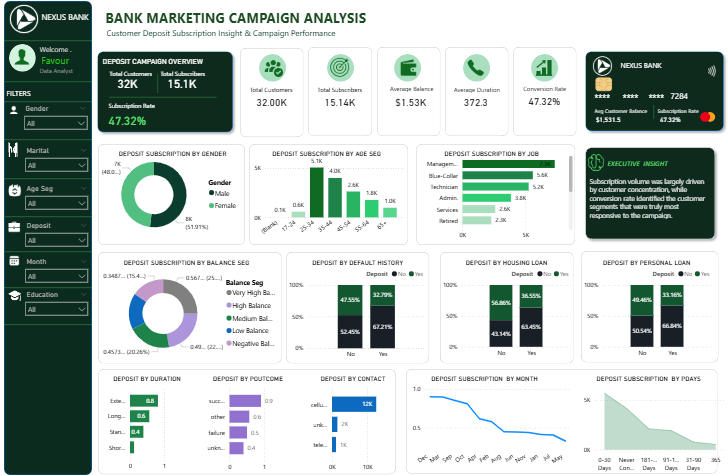

What the dashboard file says about the page in this screenshot:
{"tool":"powerbi","page":{"name":"Page 1","canvas":[1470,950],"ordinal":0},"visuals":[{"type":"textbox","box":[88.9,83.3,98.1,31.5],"z":0,"group":"g6"},{"type":"shape","box":[31.5,88.9,53.7,55.6],"z":0,"group":"g5"},{"type":"shape","box":[767.9,93.6,126.9,178.2],"z":0},{"type":"shape","box":[493.9,95.2,126.9,178.2],"z":0,"group":"g1"},{"type":"image","box":[22.2,90.8,70.4,48.1],"z":1000,"group":"g5"},{"type":"shape","box":[903.8,93.6,126.9,178.2],"z":1000},{"type":"shape","box":[629.8,93.9,128.2,178.2],"z":1000,"group":"g1"},{"type":"textbox","box":[92.6,101.8,98.1,38.9],"z":1000,"group":"g6"},{"type":"shape","box":[1175,94.2,294.2,176.9],"z":2000},{"type":"textbox","box":[88.9,125.9,98.1,31.5],"z":2000,"group":"g6"},{"type":"textbox","box":[502.9,163.1,109,34.6],"z":2000,"group":"g1"},{"type":"shape","box":[1039.7,94.9,126.9,178.2],"z":3000},{"type":"card","fields":{"Values":["Bank_Marketing_Dataset_2026_Pro.Total Customer"]},"box":[515.7,183.6,83.3,39.7],"z":3000,"group":"g1"},{"type":"shape","box":[22.2,1.9,175.9,948.1],"z":4000},{"type":"textbox","box":[636.2,163.1,115.4,34.6],"z":4000,"group":"g1"},{"type":"shape","box":[200,93.6,288.5,179.5],"z":5000},{"type":"card","fields":{"Values":["Bank_Marketing_Dataset_2026_Pro.Total Subscribers"]},"box":[651.6,183.6,83.3,39.7],"z":5000,"group":"g1"},{"type":"card","fields":{"Values":["Bank_Marketing_Dataset_2026_Pro.Average Balance"]},"box":[794.5,184.4,83.5,39.4],"z":6000},{"type":"card","fields":{"Values":["Bank_Marketing_Dataset_2026_Pro.Average Call Duration"]},"box":[924.8,184.4,83.5,39.4],"z":7000},{"type":"textbox","box":[1046.3,163,114.8,35.2],"z":8000},{"type":"card","fields":{"Values":["Bank_Marketing_Dataset_2026_Pro.Conversion Rate"]},"box":[1063,181.5,81.5,40.7],"z":9000},{"type":"card","fields":{"Values":["Count(Bank_Marketing_Dataset_2026_Pro.Customer_id)"]},"box":[225.6,150,85.9,35.9],"z":10000},{"type":"textbox","box":[214.1,107.7,230.8,39.7],"z":11000},{"type":"textbox","box":[214.1,132.1,109,34.6],"z":12000},{"type":"shape","box":[231.5,138.9,214.8,113],"z":13000},{"type":"textbox","box":[329.5,132.1,115.4,34.6],"z":14000},{"type":"card","fields":{"Values":["Bank_Marketing_Dataset_2026_Pro.Total Subscribers"]},"box":[329.5,150,94.9,35.9],"z":15000},{"type":"card","fields":{"Values":["Bank_Marketing_Dataset_2026_Pro.Conversion Rate"]},"box":[218.5,215.4,101.5,49.2],"z":16000},{"type":"textbox","box":[225.9,196.6,119,34.5],"z":17000},{"type":"shape","box":[210.2,287.8,293.9,202],"z":18000},{"type":"shape","box":[512.2,287.8,318.4,202],"z":19000},{"type":"shape","box":[846.9,287.8,318.4,202],"z":20000},{"type":"shape","box":[1175.7,286.5,277,201.4],"z":21000},{"type":"group","id":"g1","title":"Group 1","box":[493.9,93.9,263.3,179.6],"z":22000},{"type":"clusteredColumnChart","fields":{"Category":["Bank_Marketing_Dataset_2026_Pro.Age Seg"],"Y":["Bank_Marketing_Dataset_2026_Pro.Total Subscribers"]},"box":[515.7,297.6,312,192.8],"z":23000},{"type":"clusteredBarChart","fields":{"Category":["Bank_Marketing_Dataset_2026_Pro.Job"],"Y":["Bank_Marketing_Dataset_2026_Pro.Total Customer"]},"box":[846.3,298.1,318.5,190.7],"z":24000},{"type":"donutChart","fields":{"Category":["Bank_Marketing_Dataset_2026_Pro.Gender"],"Y":["Bank_Marketing_Dataset_2026_Pro.Total Subscribers"]},"box":[209,287.2,293.6,202.6],"z":25000},{"type":"shape","box":[209.6,503.8,367.3,223.1],"z":26000},{"type":"shape","box":[586.5,503.8,286.5,223.1],"z":27000},{"type":"shape","box":[894.2,503.8,267.3,223.1],"z":28000},{"type":"shape","box":[1175,501.9,275,223.1],"z":29000},{"type":"donutChart","fields":{"Category":["Bank_Marketing_Dataset_2026_Pro.Balance Seg"],"Y":["Bank_Marketing_Dataset_2026_Pro.Conversion Rate"]},"box":[209.3,525.9,368.5,201.9],"z":30000},{"type":"shape","box":[266.1,148.2,126.8,37.5],"z":31000},{"type":"textbox","box":[219.6,12.5,564.3,58.9],"z":32000},{"type":"shape","box":[210.6,738.3,595.7,210.6],"z":33000},{"type":"shape","box":[826.9,738.5,623.1,209.6],"z":34000},{"type":"hundredPercentStackedColumnChart","fields":{"Category":["Bank_Marketing_Dataset_2026_Pro.Default"],"Y":["Bank_Marketing_Dataset_2026_Pro.Total Customer"],"Series":["Bank_Marketing_Dataset_2026_Pro.Deposit"]},"box":[587,529,284.1,198.6],"z":35000},{"type":"hundredPercentStackedColumnChart","fields":{"Category":["Bank_Marketing_Dataset_2026_Pro.Housing Loan"],"Series":["Bank_Marketing_Dataset_2026_Pro.Deposit"],"Y":["Bank_Marketing_Dataset_2026_Pro.Total Customer"]},"box":[894.2,529,266.7,195.7],"z":36000},{"type":"hundredPercentStackedColumnChart","fields":{"Category":["Bank_Marketing_Dataset_2026_Pro.Loan"],"Y":["Bank_Marketing_Dataset_2026_Pro.Total Customer"],"Series":["Bank_Marketing_Dataset_2026_Pro.Deposit"]},"box":[1175.4,529,266.7,195.7],"z":37000},{"type":"clusteredBarChart","fields":{"Category":["Bank_Marketing_Dataset_2026_Pro.Duration Seg"],"Y":["Bank_Marketing_Dataset_2026_Pro.Conversion Rate"]},"box":[212.8,763.8,197.9,185.1],"z":38000},{"type":"clusteredBarChart","fields":{"Category":["Bank_Marketing_Dataset_2026_Pro.Poutcome"],"Y":["Bank_Marketing_Dataset_2026_Pro.Conversion Rate"]},"box":[410.6,763.8,200,187.2],"z":39000},{"type":"clusteredBarChart","fields":{"Category":["Bank_Marketing_Dataset_2026_Pro.Contact"],"Y":["Bank_Marketing_Dataset_2026_Pro.Total Subscribers"]},"box":[617,763.8,189.4,187.2],"z":40000},{"type":"lineChart","fields":{"Category":["Bank_Marketing_Dataset_2026_Pro.Month"],"Y":["Bank_Marketing_Dataset_2026_Pro.Conversion Rate"]},"box":[831.9,763.8,327.7,185.1],"z":41000},{"type":"areaChart","fields":{"Category":["Bank_Marketing_Dataset_2026_Pro.Pdays Segment"],"Y":["Bank_Marketing_Dataset_2026_Pro.Total Subscribers"]},"box":[1172.4,765.5,298.3,184.5],"z":42000},{"type":"slicer","fields":{"Values":["Bank_Marketing_Dataset_2026_Pro.Education"]},"box":[53.7,575.9,146.3,55.6],"z":43000},{"type":"shape","box":[532.9,107.1,54.3,55.7],"z":44000},{"type":"image","box":[535.7,108.6,48.6,52.9],"z":45000},{"type":"shape","box":[802.9,107.1,54.3,55.7],"z":46000},{"type":"shape","box":[667.1,107.1,54.3,55.7],"z":47000},{"type":"shape","box":[940,107.1,54.3,55.7],"z":48000},{"type":"shape","box":[1075.7,107.1,54.3,55.7],"z":49000},{"type":"image","box":[668.9,108.9,51.1,53.3],"z":50000},{"type":"image","box":[805.7,107.1,51.4,54.3],"z":51000},{"type":"image","box":[942.9,111.4,47.1,47.1],"z":52000},{"type":"image","box":[1074.3,107.1,55.7,54.3],"z":53000},{"type":"textbox","box":[227.8,292.6,263,38.9],"z":54000},{"type":"textbox","box":[535.2,292.6,263,38.9],"z":55000},{"type":"textbox","box":[866.7,292.6,263,38.9],"z":56000},{"type":"textbox","box":[1198.8,176.5,168.1,38.3],"z":57000,"group":"g2"},{"type":"textbox","box":[250,509.3,274.1,38.9],"z":57000},{"type":"textbox","box":[598.1,509.3,263,38.9],"z":58000},{"type":"textbox","box":[896.3,509.3,263,38.9],"z":59000},{"type":"textbox","box":[1175.9,509.3,263,38.9],"z":60000},{"type":"textbox","box":[222.2,742.6,172.2,38.9],"z":61000},{"type":"textbox","box":[424.1,742.6,172.2,38.9],"z":62000},{"type":"textbox","box":[633.3,742.6,172.2,38.9],"z":63000},{"type":"textbox","box":[1198.7,742.3,226.9,39.7],"z":64000},{"type":"textbox","box":[846.3,742.6,274.1,38.9],"z":65000},{"type":"textbox","box":[909.3,164.8,118.5,35.2],"z":66000},{"type":"textbox","box":[779.6,163,114.8,35.2],"z":67000},{"type":"textbox","box":[222.2,50,490.7,44.4],"z":68000},{"type":"group","id":"g2","title":"Group 2","box":[1198.8,176.5,204.9,38.3],"z":69000},{"type":"image","box":[1197.9,142.6,46.8,53.2],"z":70000},{"type":"group","id":"g3","title":"Group 3","box":[1198.2,205.5,226.6,35.8],"z":71000},{"type":"image","box":[1415.2,123.2,43.4,36.4],"z":72000},{"type":"textbox","box":[1350.9,176.6,54.3,38.6],"z":73000,"group":"g2"},{"type":"textbox","box":[1198.2,205.5,135.7,35.8],"z":73000,"group":"g3"},{"type":"group","id":"g4","title":"Group 4","box":[1414.7,223.9,31.2,20.2],"z":73000},{"type":"textbox","box":[1323.4,205.5,101.4,35.8],"z":74000,"group":"g3"},{"type":"card","fields":{"Values":["Bank_Marketing_Dataset_2026_Pro.Average Balance"]},"box":[1188.1,225.7,85.3,31.2],"z":74000},{"type":"shape","box":[1258.7,210.1,126.6,27.5],"z":75000},{"type":"shape","box":[1425,223.9,20.6,19.8],"z":76000,"group":"g4"},{"type":"card","fields":{"Values":["Bank_Marketing_Dataset_2026_Pro.Conversion Rate"]},"box":[1312.8,225.7,85.3,31.2],"z":76000},{"type":"textbox","box":[1250,116.7,151.9,31.5],"z":77000},{"type":"shape","box":[1414.7,223.9,20.6,19.8],"z":77000,"group":"g4"},{"type":"shape","box":[22.2,157.4,175.9,90.7],"z":78000},{"type":"shape","box":[22.2,233.3,175.9,90.7],"z":79000},{"type":"slicer","fields":{"Values":["Bank_Marketing_Dataset_2026_Pro.Gender"]},"box":[52.9,203.9,147.1,58.8],"z":80000},{"type":"slicer","fields":{"Values":["Bank_Marketing_Dataset_2026_Pro.Marital"]},"box":[53.7,287,146.3,59.3],"z":81000},{"type":"shape","box":[22.2,313,175.9,90.7],"z":82000},{"type":"shape","box":[24.1,388.9,175.9,90.7],"z":83000},{"type":"shape","box":[24.1,457.4,175.9,90.7],"z":84000},{"type":"slicer","fields":{"Values":["Bank_Marketing_Dataset_2026_Pro.Month"]},"box":[53.7,509.3,146.3,59.3],"z":85000},{"type":"shape","box":[22.2,529.6,175.9,90.7],"z":86000},{"type":"slicer","fields":{"Values":["Bank_Marketing_Dataset_2026_Pro.Age Seg"]},"box":[53.7,364.8,146.3,57.4],"z":87000},{"type":"slicer","fields":{"Values":["Bank_Marketing_Dataset_2026_Pro.Deposit"]},"box":[53.7,438.9,146.3,63],"z":88000},{"type":"image","box":[25.9,203.7,31.5,33.3],"z":89000},{"type":"image","box":[24.1,503.7,37,35.2],"z":90000},{"type":"image","box":[25.9,575.9,35.2,29.6],"z":91000},{"type":"image","box":[24.1,431.5,37,44.4],"z":92000},{"type":"image","box":[25.9,279.6,27.8,38.9],"z":93000},{"type":"image","box":[22.2,359.3,42.6,40.7],"z":94000},{"type":"textbox","box":[22.2,170.4,151.9,33.3],"z":95000},{"type":"shape","box":[24.1,118.5,175.9,90.7],"z":96000},{"type":"group","id":"g5","title":"Group 5","box":[22.2,88.9,70.4,55.6],"z":97000},{"type":"group","id":"g6","title":"Group 6","box":[88.9,83.3,101.9,74.1],"z":98000},{"type":"shape","box":[22.2,35.2,175.9,90.7],"z":99000},{"type":"image","box":[24.1,1.9,75.9,72.2],"z":100000},{"type":"image","box":[1188.9,105.6,61.1,51.9],"z":101000},{"type":"textbox","box":[92.6,18.5,151.9,31.5],"z":102000},{"type":"shape","box":[21.7,603.6,175.9,90.4],"z":103000},{"type":"textbox","box":[1187,348.1,250,101.9],"z":104000},{"type":"textbox","box":[1224.1,313,211.1,37],"z":105000},{"type":"image","box":[1172.2,298.1,68.5,53.7],"z":106000}]}

Visuals, with their boxes in screenshot pixels (x1, y1, x2, y2), scaled from the page's 1470x950 canvas onto the 728x475 screenshot:
textbox: (left=44, top=42, right=93, bottom=57)
shape: (left=16, top=44, right=42, bottom=72)
shape: (left=380, top=47, right=443, bottom=136)
shape: (left=245, top=48, right=307, bottom=137)
image: (left=11, top=45, right=46, bottom=69)
shape: (left=448, top=47, right=510, bottom=136)
shape: (left=312, top=47, right=375, bottom=136)
textbox: (left=46, top=51, right=94, bottom=70)
shape: (left=582, top=47, right=727, bottom=136)
textbox: (left=44, top=63, right=93, bottom=79)
textbox: (left=249, top=82, right=303, bottom=99)
shape: (left=515, top=47, right=578, bottom=137)
card - Bank_Marketing_Dataset_2026_Pro.Total Customer: (left=255, top=92, right=297, bottom=112)
shape: (left=11, top=1, right=98, bottom=474)
textbox: (left=315, top=82, right=372, bottom=99)
shape: (left=99, top=47, right=242, bottom=137)
card - Bank_Marketing_Dataset_2026_Pro.Total Subscribers: (left=323, top=92, right=364, bottom=112)
card - Bank_Marketing_Dataset_2026_Pro.Average Balance: (left=393, top=92, right=435, bottom=112)
card - Bank_Marketing_Dataset_2026_Pro.Average Call Duration: (left=458, top=92, right=499, bottom=112)
textbox: (left=518, top=82, right=575, bottom=99)
card - Bank_Marketing_Dataset_2026_Pro.Conversion Rate: (left=526, top=91, right=567, bottom=111)
card - Count(Bank_Marketing_Dataset_2026_Pro.Customer_id): (left=112, top=75, right=154, bottom=93)
textbox: (left=106, top=54, right=220, bottom=74)
textbox: (left=106, top=66, right=160, bottom=83)
shape: (left=115, top=69, right=221, bottom=126)
textbox: (left=163, top=66, right=220, bottom=83)
card - Bank_Marketing_Dataset_2026_Pro.Total Subscribers: (left=163, top=75, right=210, bottom=93)
card - Bank_Marketing_Dataset_2026_Pro.Conversion Rate: (left=108, top=108, right=158, bottom=132)
textbox: (left=112, top=98, right=171, bottom=116)
shape: (left=104, top=144, right=250, bottom=245)
shape: (left=254, top=144, right=411, bottom=245)
shape: (left=419, top=144, right=577, bottom=245)
shape: (left=582, top=143, right=719, bottom=244)
"Group 1" group: (left=245, top=47, right=375, bottom=137)
clusteredColumnChart - Bank_Marketing_Dataset_2026_Pro.Age Seg x Bank_Marketing_Dataset_2026_Pro.Total Subscribers: (left=255, top=149, right=410, bottom=245)
clusteredBarChart - Bank_Marketing_Dataset_2026_Pro.Job x Bank_Marketing_Dataset_2026_Pro.Total Customer: (left=419, top=149, right=577, bottom=244)
donutChart - Bank_Marketing_Dataset_2026_Pro.Gender x Bank_Marketing_Dataset_2026_Pro.Total Subscribers: (left=104, top=144, right=249, bottom=245)
shape: (left=104, top=252, right=286, bottom=363)
shape: (left=290, top=252, right=432, bottom=363)
shape: (left=443, top=252, right=575, bottom=363)
shape: (left=582, top=251, right=718, bottom=362)
donutChart - Bank_Marketing_Dataset_2026_Pro.Balance Seg x Bank_Marketing_Dataset_2026_Pro.Conversion Rate: (left=104, top=263, right=286, bottom=364)
shape: (left=132, top=74, right=195, bottom=93)
textbox: (left=109, top=6, right=388, bottom=36)
shape: (left=104, top=369, right=399, bottom=474)
shape: (left=410, top=369, right=718, bottom=474)
hundredPercentStackedColumnChart - Bank_Marketing_Dataset_2026_Pro.Default x Bank_Marketing_Dataset_2026_Pro.Total Customer: (left=291, top=264, right=431, bottom=364)
hundredPercentStackedColumnChart - Bank_Marketing_Dataset_2026_Pro.Housing Loan x Bank_Marketing_Dataset_2026_Pro.Deposit: (left=443, top=264, right=575, bottom=362)
hundredPercentStackedColumnChart - Bank_Marketing_Dataset_2026_Pro.Loan x Bank_Marketing_Dataset_2026_Pro.Total Customer: (left=582, top=264, right=714, bottom=362)
clusteredBarChart - Bank_Marketing_Dataset_2026_Pro.Duration Seg x Bank_Marketing_Dataset_2026_Pro.Conversion Rate: (left=105, top=382, right=203, bottom=474)
clusteredBarChart - Bank_Marketing_Dataset_2026_Pro.Poutcome x Bank_Marketing_Dataset_2026_Pro.Conversion Rate: (left=203, top=382, right=302, bottom=474)
clusteredBarChart - Bank_Marketing_Dataset_2026_Pro.Contact x Bank_Marketing_Dataset_2026_Pro.Total Subscribers: (left=306, top=382, right=399, bottom=474)
lineChart - Bank_Marketing_Dataset_2026_Pro.Month x Bank_Marketing_Dataset_2026_Pro.Conversion Rate: (left=412, top=382, right=574, bottom=474)
areaChart - Bank_Marketing_Dataset_2026_Pro.Pdays Segment x Bank_Marketing_Dataset_2026_Pro.Total Subscribers: (left=581, top=383, right=727, bottom=474)
slicer - Bank_Marketing_Dataset_2026_Pro.Education: (left=27, top=288, right=99, bottom=316)
shape: (left=264, top=54, right=291, bottom=81)
image: (left=265, top=54, right=289, bottom=81)
shape: (left=398, top=54, right=425, bottom=81)
shape: (left=330, top=54, right=357, bottom=81)
shape: (left=466, top=54, right=492, bottom=81)
shape: (left=533, top=54, right=560, bottom=81)
image: (left=331, top=54, right=357, bottom=81)
image: (left=399, top=54, right=424, bottom=81)
image: (left=467, top=56, right=490, bottom=79)
image: (left=532, top=54, right=560, bottom=81)
textbox: (left=113, top=146, right=243, bottom=166)
textbox: (left=265, top=146, right=395, bottom=166)
textbox: (left=429, top=146, right=559, bottom=166)
textbox: (left=594, top=88, right=677, bottom=107)
textbox: (left=124, top=255, right=260, bottom=274)
textbox: (left=296, top=255, right=426, bottom=274)
textbox: (left=444, top=255, right=574, bottom=274)
textbox: (left=582, top=255, right=713, bottom=274)
textbox: (left=110, top=371, right=195, bottom=391)
textbox: (left=210, top=371, right=295, bottom=391)
textbox: (left=314, top=371, right=399, bottom=391)
textbox: (left=594, top=371, right=706, bottom=391)
textbox: (left=419, top=371, right=555, bottom=391)
textbox: (left=450, top=82, right=509, bottom=100)
textbox: (left=386, top=82, right=443, bottom=99)
textbox: (left=110, top=25, right=353, bottom=47)
"Group 2" group: (left=594, top=88, right=695, bottom=107)
image: (left=593, top=71, right=616, bottom=98)
"Group 3" group: (left=593, top=103, right=706, bottom=121)
image: (left=701, top=62, right=722, bottom=80)
textbox: (left=669, top=88, right=696, bottom=108)
textbox: (left=593, top=103, right=661, bottom=121)
"Group 4" group: (left=701, top=112, right=716, bottom=122)
textbox: (left=655, top=103, right=706, bottom=121)
card - Bank_Marketing_Dataset_2026_Pro.Average Balance: (left=588, top=113, right=631, bottom=128)
shape: (left=623, top=105, right=686, bottom=119)
shape: (left=706, top=112, right=716, bottom=122)
card - Bank_Marketing_Dataset_2026_Pro.Conversion Rate: (left=650, top=113, right=692, bottom=128)
textbox: (left=619, top=58, right=694, bottom=74)
shape: (left=701, top=112, right=711, bottom=122)
shape: (left=11, top=79, right=98, bottom=124)
shape: (left=11, top=117, right=98, bottom=162)
slicer - Bank_Marketing_Dataset_2026_Pro.Gender: (left=26, top=102, right=99, bottom=131)
slicer - Bank_Marketing_Dataset_2026_Pro.Marital: (left=27, top=144, right=99, bottom=173)
shape: (left=11, top=156, right=98, bottom=202)
shape: (left=12, top=194, right=99, bottom=240)
shape: (left=12, top=229, right=99, bottom=274)
slicer - Bank_Marketing_Dataset_2026_Pro.Month: (left=27, top=255, right=99, bottom=284)
shape: (left=11, top=265, right=98, bottom=310)
slicer - Bank_Marketing_Dataset_2026_Pro.Age Seg: (left=27, top=182, right=99, bottom=211)
slicer - Bank_Marketing_Dataset_2026_Pro.Deposit: (left=27, top=219, right=99, bottom=251)
image: (left=13, top=102, right=28, bottom=118)
image: (left=12, top=252, right=30, bottom=269)
image: (left=13, top=288, right=30, bottom=303)
image: (left=12, top=216, right=30, bottom=238)
image: (left=13, top=140, right=27, bottom=159)
image: (left=11, top=180, right=32, bottom=200)
textbox: (left=11, top=85, right=86, bottom=102)
shape: (left=12, top=59, right=99, bottom=105)
"Group 5" group: (left=11, top=44, right=46, bottom=72)
"Group 6" group: (left=44, top=42, right=94, bottom=79)
shape: (left=11, top=18, right=98, bottom=63)
image: (left=12, top=1, right=50, bottom=37)
image: (left=589, top=53, right=619, bottom=79)
textbox: (left=46, top=9, right=121, bottom=25)
shape: (left=11, top=302, right=98, bottom=347)
textbox: (left=588, top=174, right=712, bottom=225)
textbox: (left=606, top=156, right=711, bottom=175)
image: (left=581, top=149, right=614, bottom=176)
